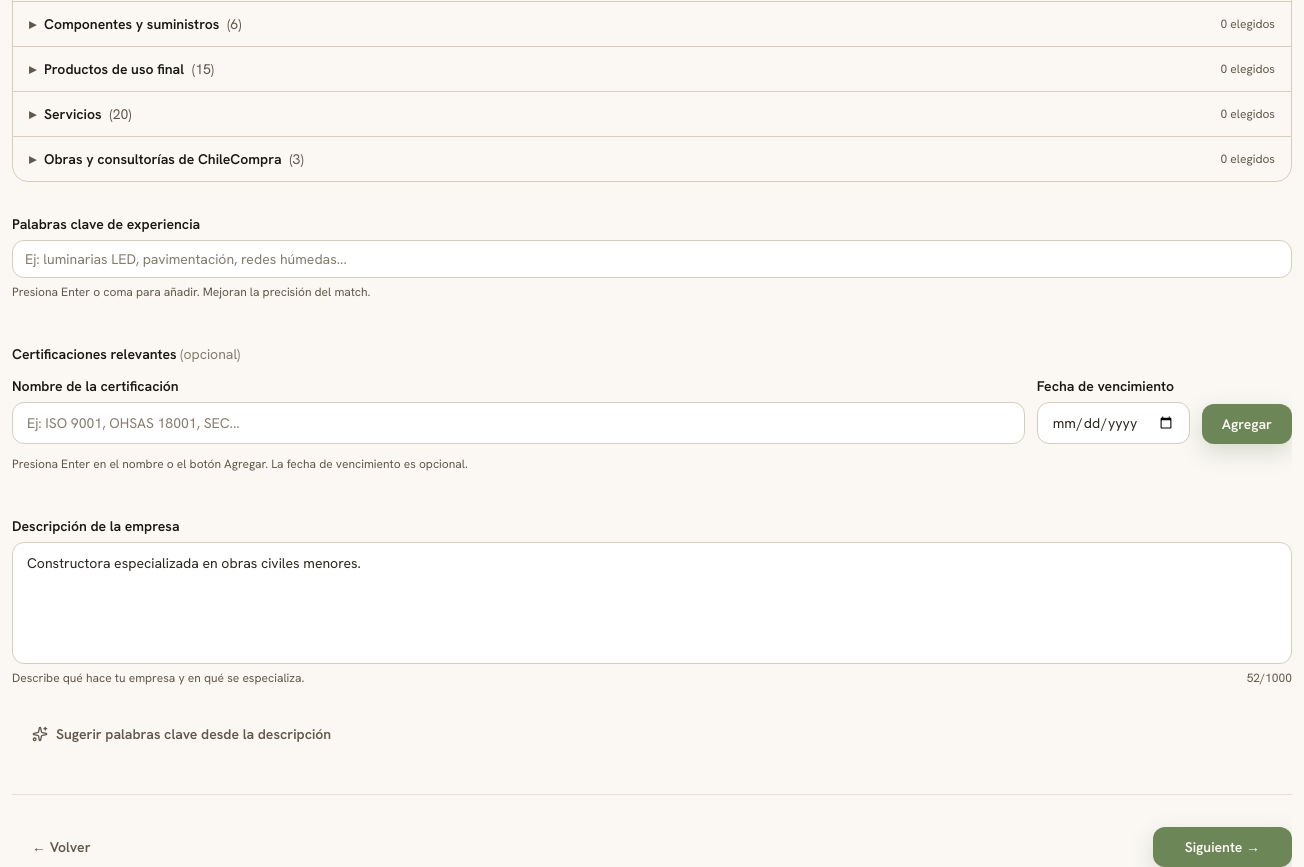
Test: Step3Specialization (sugerir desde la descripción) › avisa cuando la descripción no da palabras clave nuevas
The width and height of the screenshot is (1304, 867).
(page scrolled)
What coordinates should you click on to do the following:
click the button "Sugerir palabras clave desde la descripción"
I would click on:
 (182, 734)
Its box is [12, 714, 351, 754].
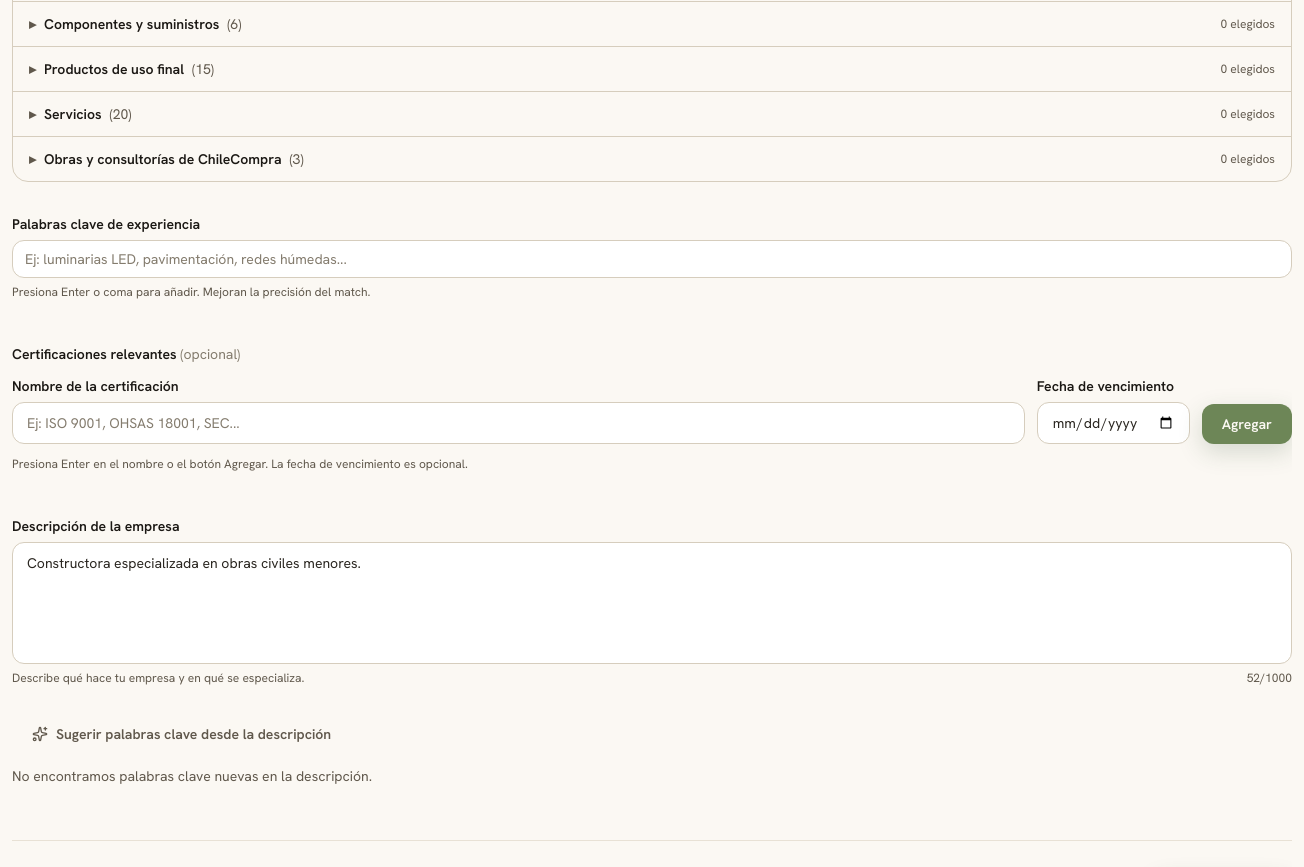
Result: the text "No encontramos palabras clave nuevas en la descripción." is shown at [12, 767, 372, 785]
